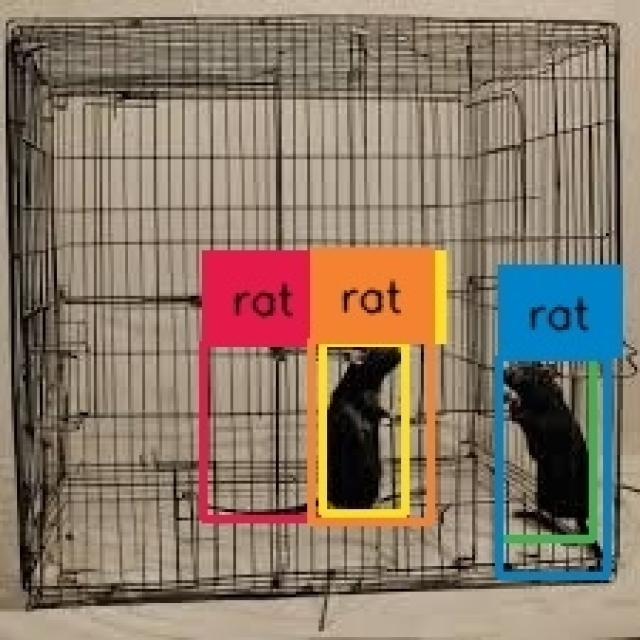rat: (204, 343, 406, 519), (499, 357, 607, 576), (311, 342, 431, 520), (499, 358, 593, 538), (323, 341, 405, 515)
